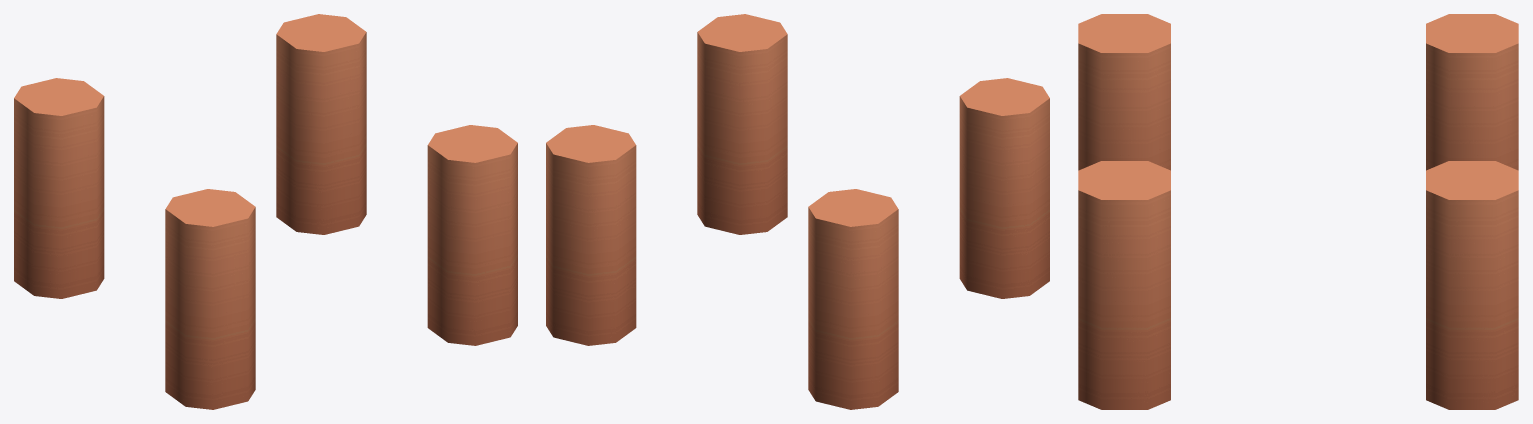
File: supports-low.glb
3 renders of one model, left to right at view 1: azimuth 30°, elevation 25°; view 2: azimuth 150°, elevation 25°; view 3: azimuth 270°, elevation 25°, orthographic. The views are drawn at different scales.
Visible parts, largest first — view 1: supports-low; view 2: supports-low; view 3: supports-low.
Boxes of the visible parts, <box> form: supports-low: <box>14,14,517,409</box>; supports-low: <box>546,14,1049,409</box>; supports-low: <box>1078,14,1518,409</box>.
Bounding box in the file's own units: 0.95 × 0.5 × 0.95.
1 material, 1 textured.
